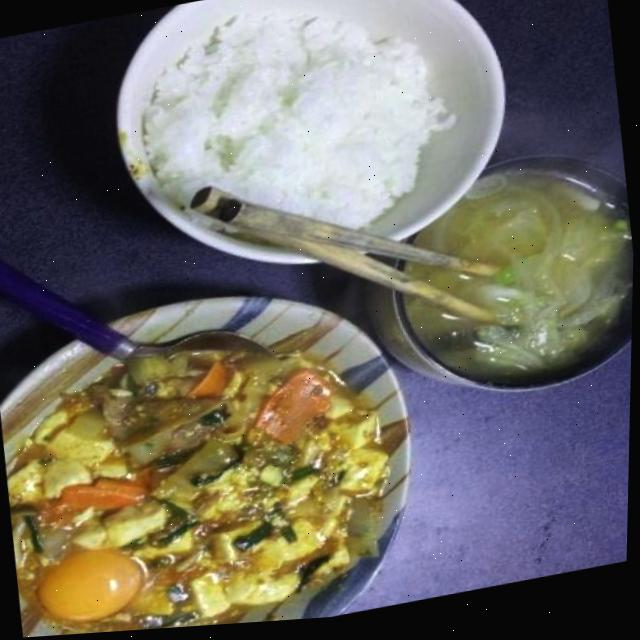汤锅炖物: (385, 141, 637, 424)
